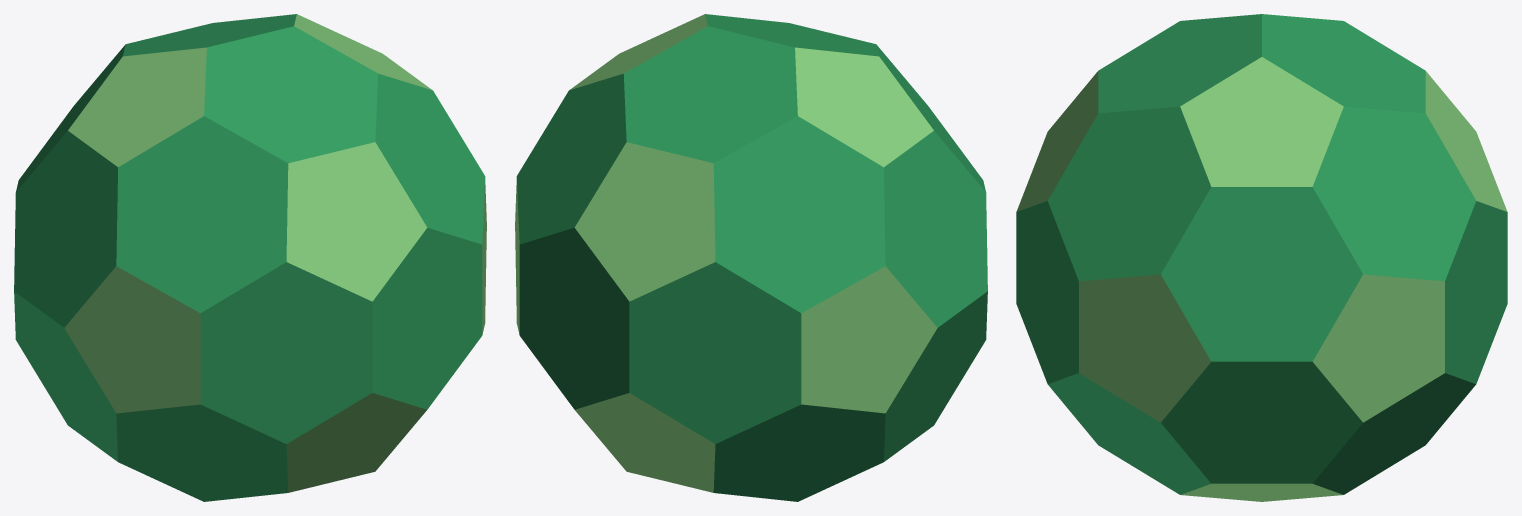
File: 14.IcosaedroTruncado.gltf
3 views of the same model, side by side, from view 1: azimuth 30°, elevation 25°; view 2: azimuth 150°, elevation 25°; view 3: azimuth 270°, elevation 25° (orthographic).
Visible parts, largest first — view 1: Solid; view 2: Solid; view 3: Solid.
Part boxes in pixels (x1,y1,x2,y2): Solid: (14,14,486,501); Solid: (515,14,987,501); Solid: (1016,14,1507,501).
Bounding box in the file's own units: 1.7 × 1.7 × 1.7.
